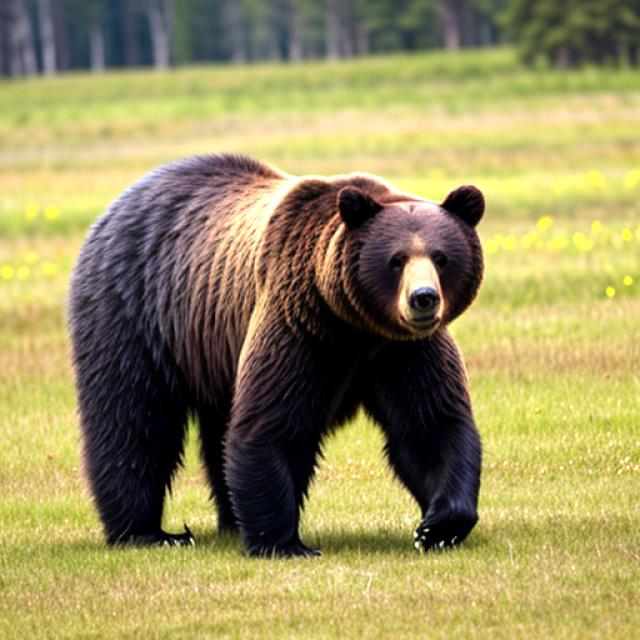bear: (328, 177, 504, 344)
